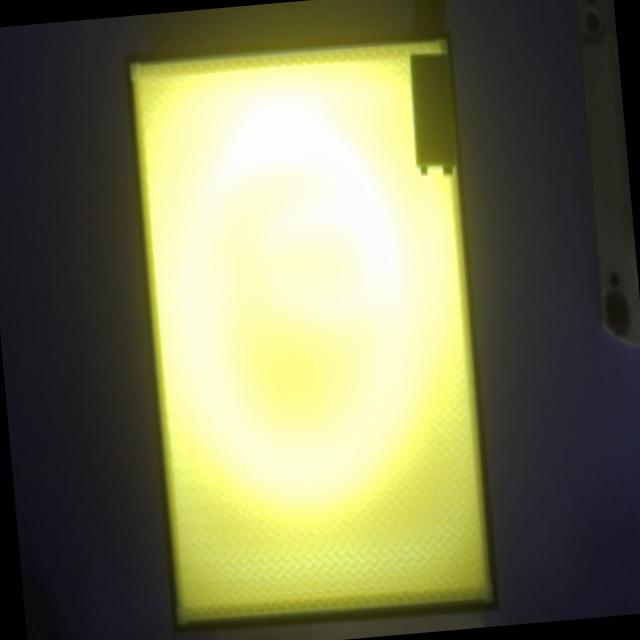bateria: (406, 52, 455, 176)
mesa: (123, 28, 499, 635)
